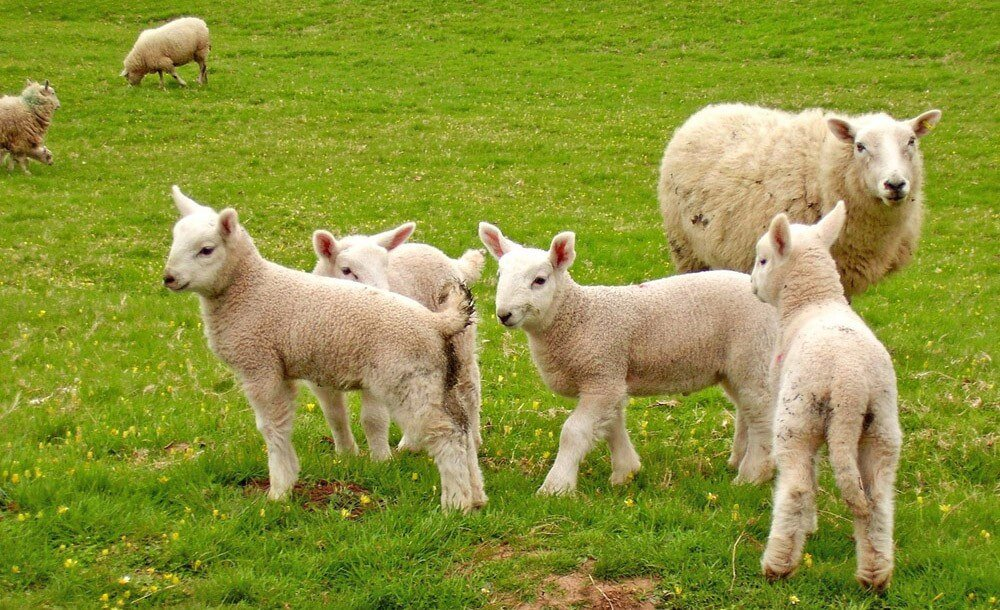sheep: (143, 194, 471, 598), (473, 222, 768, 519), (666, 88, 936, 320), (768, 201, 914, 582), (311, 179, 472, 330), (116, 8, 250, 109), (1, 68, 104, 167)
